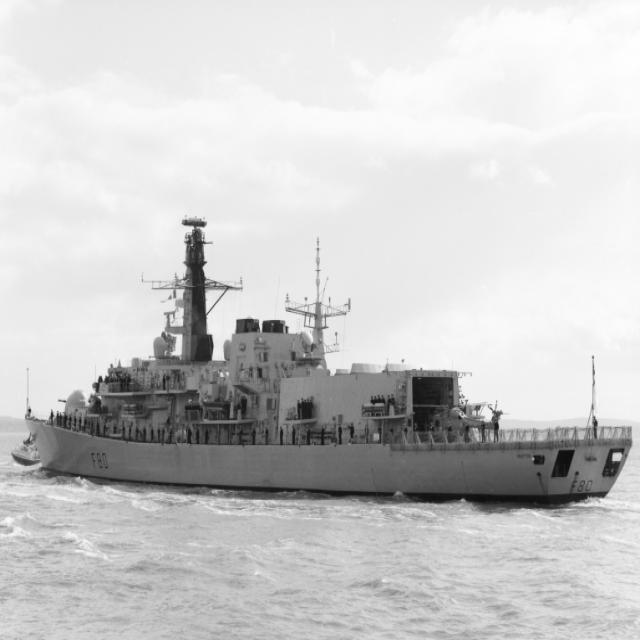Fragata: (23, 210, 637, 496)
